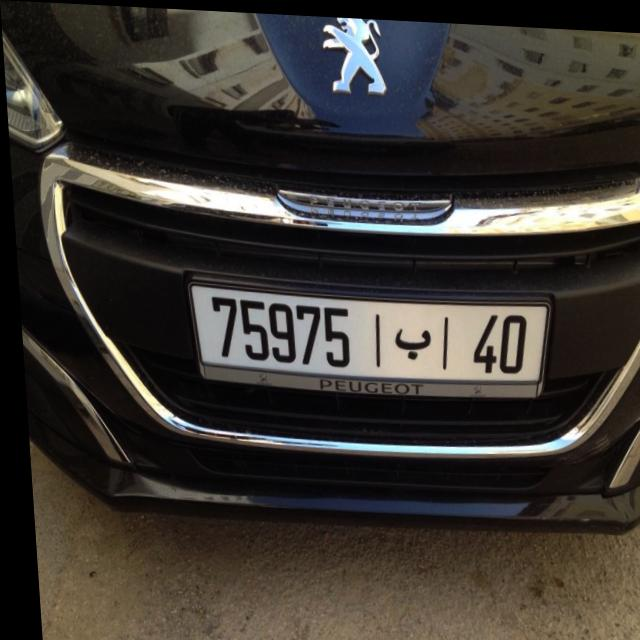License-Plate: (190, 285, 543, 378)
